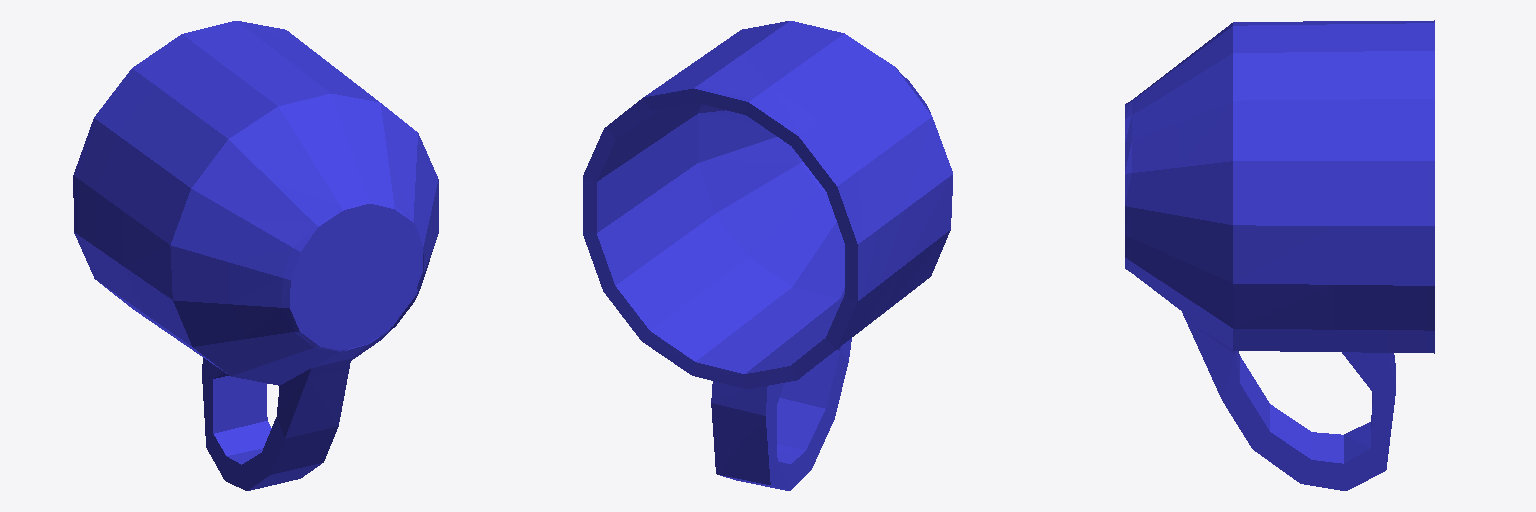
robot.urdf — mug_1:
<?xml version="1.0"?>
<robot name="mug_1">
  <link name="mug_base_link">
    <contact>
      <lateral_friction value="1.0"/>
      <spinning_friction value=".001"/>
    </contact>
    <inertial>
      <origin rpy="0 0 0" xyz="0 0 0"/>
      <mass value="0.2"/>
      <inertia ixx="1" ixy="0" ixz="0" iyy="1" iyz="0" izz="1"/>
    </inertial>
    <visual>
      <origin rpy="0 0 0" xyz="0.0 0.0 0.0"/>
      <geometry>
        <mesh filename="./m1.obj" scale="1 .75 1"/>
      </geometry>
      <material name="mug_mat">
        <color rgba="0.3 0.3 0.9 1"/>
      </material>
    </visual>
    <collision>
      <origin rpy="0 0 0" xyz="0.0 0.0 0.0"/>
      <geometry>
        <mesh filename="./m1_cd.obj" scale="1 .75 1"/>
      </geometry>
    </collision>
  </link>
</robot>

--- What the picture shows (computed from the rendered views, not written in the file) ---
The picture shows the robot from 3 angles, left to right: view 1: azimuth 30°, elevation 25°; view 2: azimuth 150°, elevation 25°; view 3: azimuth 270°, elevation 25°; orthographic projection.
Model mug_1 with 1 links and 0 joints (none), rooted at mug_base_link, posed all joints at 0.
Links seen in each view (by area): view 1: mug_base_link; view 2: mug_base_link; view 3: mug_base_link.
Boxes of the visible links, <box> form: mug_base_link: <box>73,21,438,490</box>; mug_base_link: <box>583,21,952,490</box>; mug_base_link: <box>1125,20,1434,490</box>.
Size in the robot's own frame: 2.92 by 2.74 by 4.29 metres.
Meshes: 1 distinct files referenced, 1 mesh visuals loaded (1 OBJ).